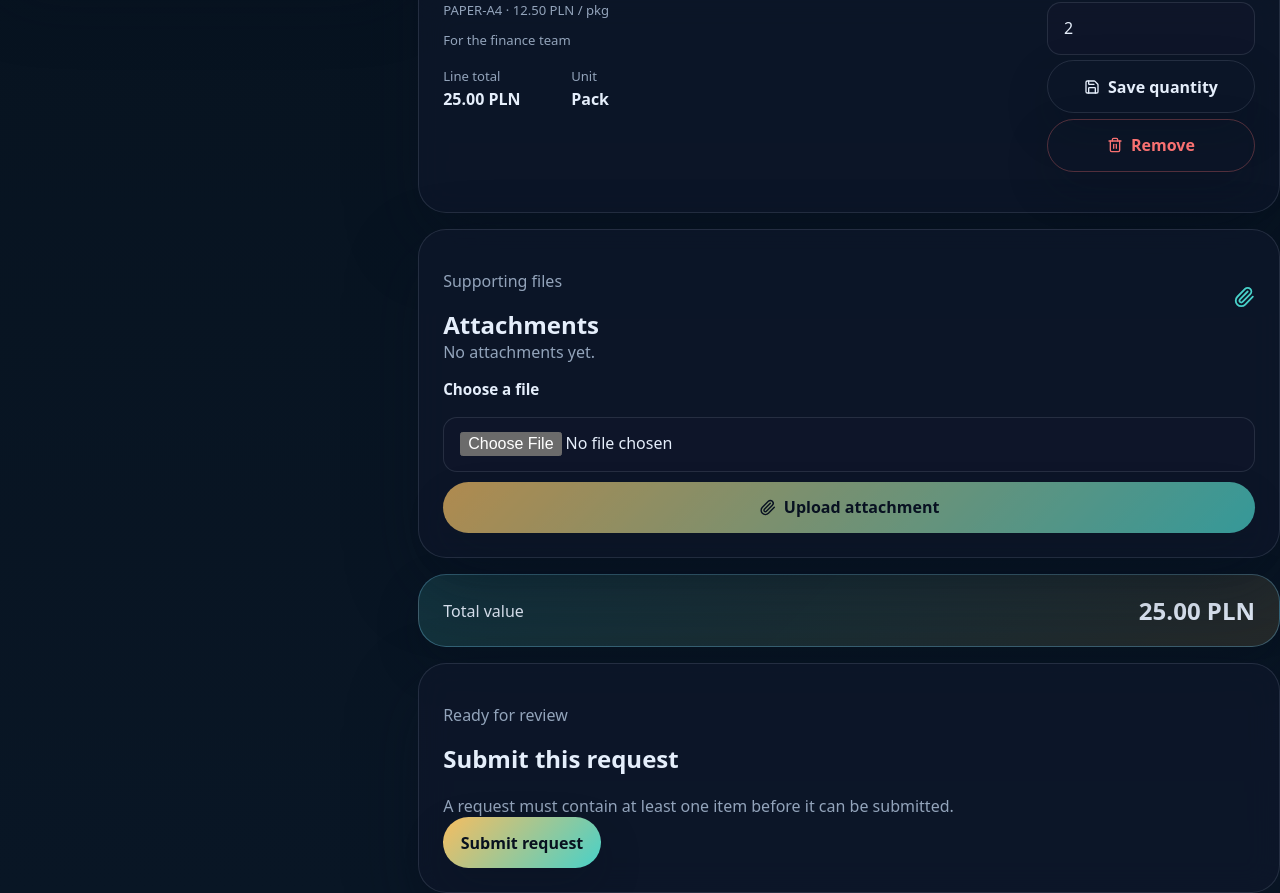
PurchaseRequestDrafts page › submits a draft with items and hides the submit action
(page scrolled)
Step 1. Click the button "Submit request" → click(522, 842), box [443,817,601,868]
(page scrolled)
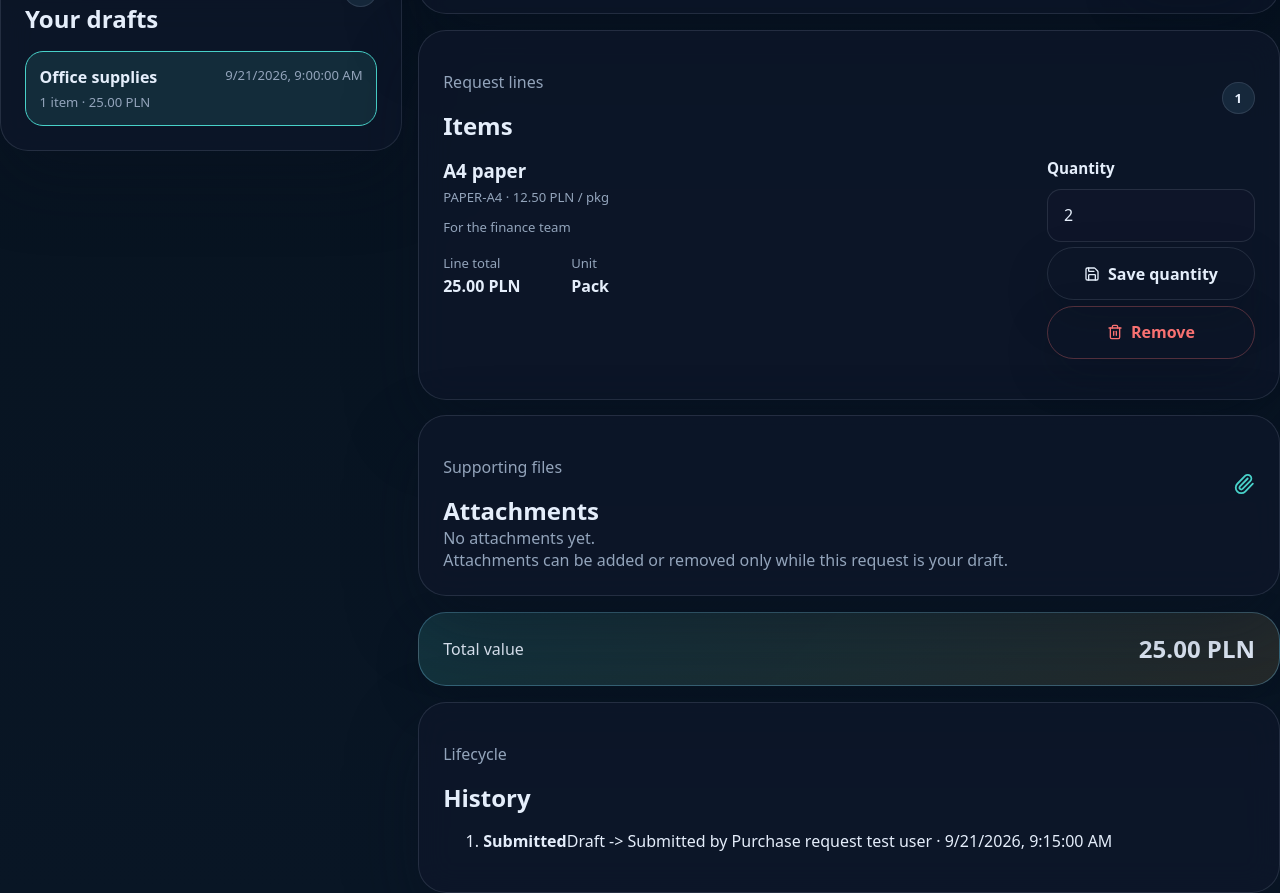
Check: the heading "History" is shown, box [443,781,531,814]
Check: the text "Purchase request test user" is shown, box [732,830,932,852]
Check: the button "Submit request" is gone
